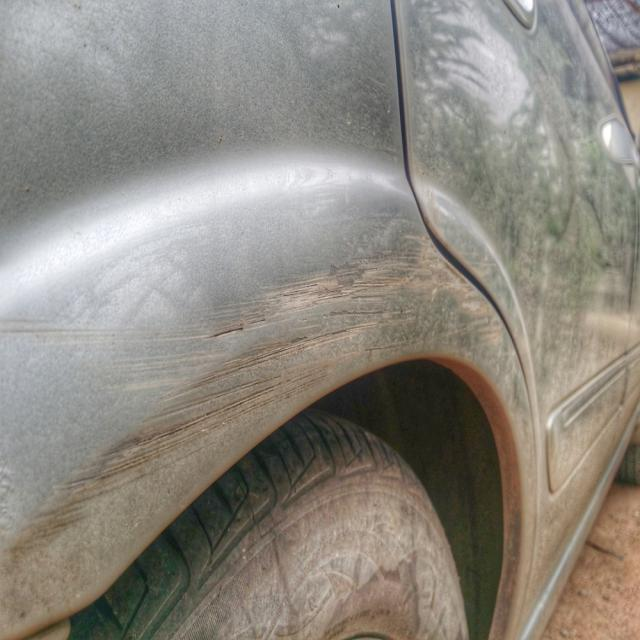Rayure: (6, 247, 516, 603)
